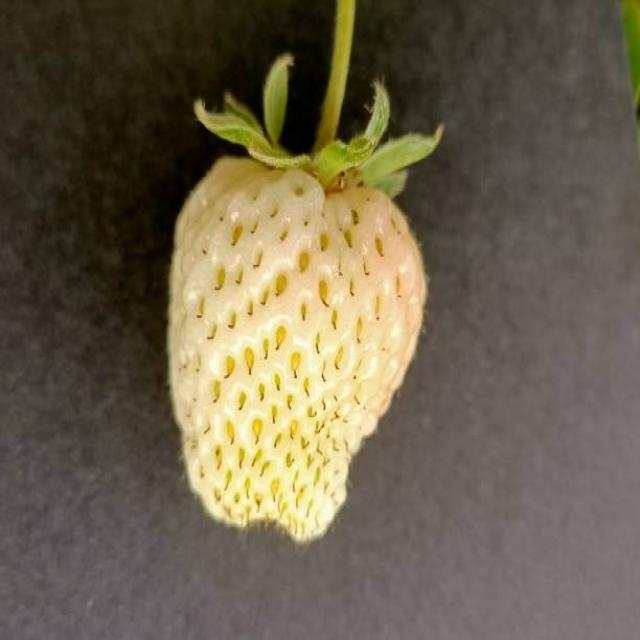Healthy Fruit: (167, 152, 427, 544)
